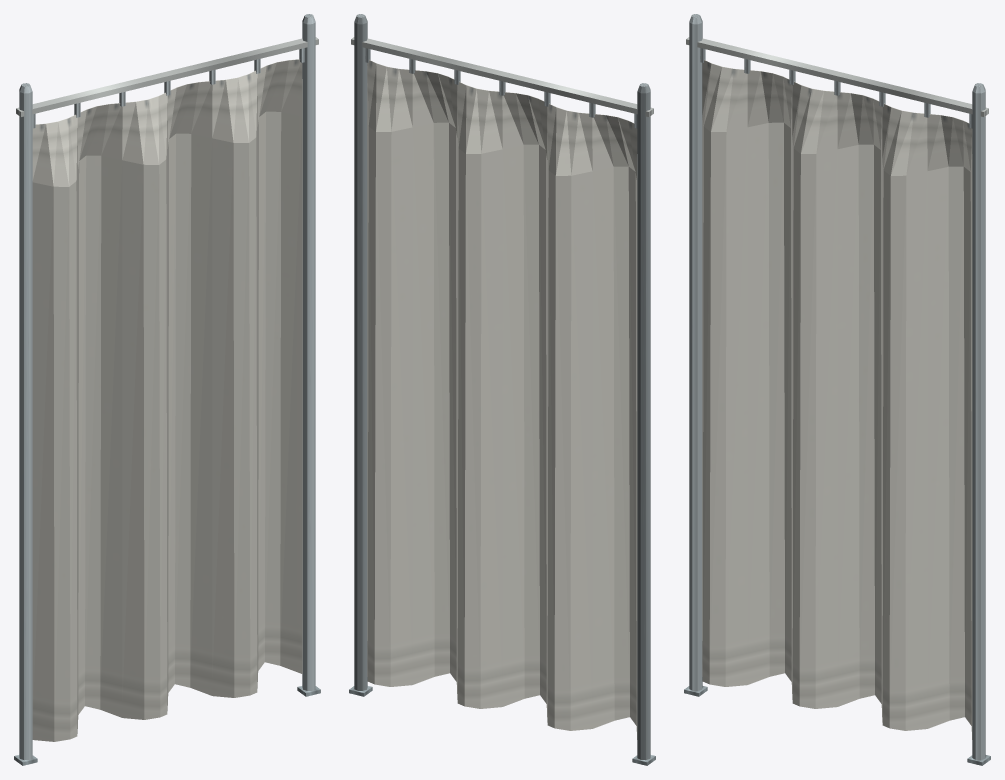
Rendered from pool_curtain_straight.glb.
3 views of the same model, side by side, from view 1: azimuth 30°, elevation 25°; view 2: azimuth 150°, elevation 25°; view 3: azimuth 330°, elevation 25° (orthographic).
Parts seen in each view (by area): view 1: core_pool_curtain_straight; view 2: core_pool_curtain_straight; view 3: core_pool_curtain_straight.
Boxes of the visible parts, x1,y1,x2,y2 form: core_pool_curtain_straight: (14,14,320,765); core_pool_curtain_straight: (349,14,655,765); core_pool_curtain_straight: (684,14,990,765).
Size of the model in its own units: 1.2 by 2.6 by 0.214.
1 material, 1 textured.
